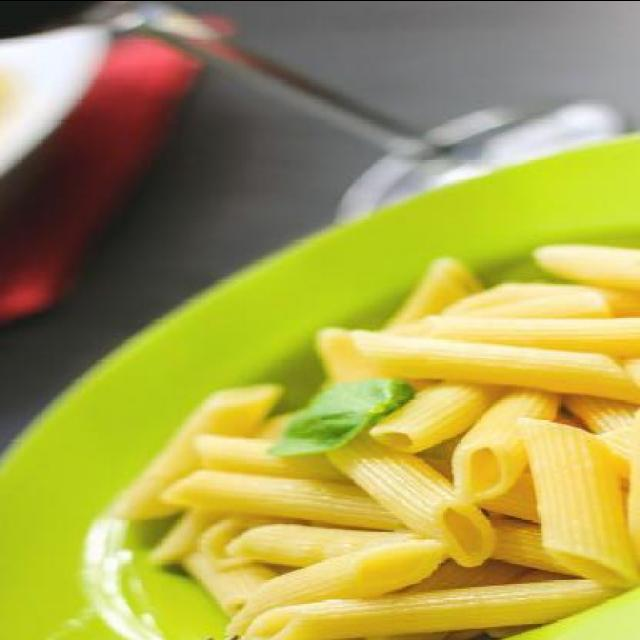Oil pasta: (58, 193, 640, 636)
